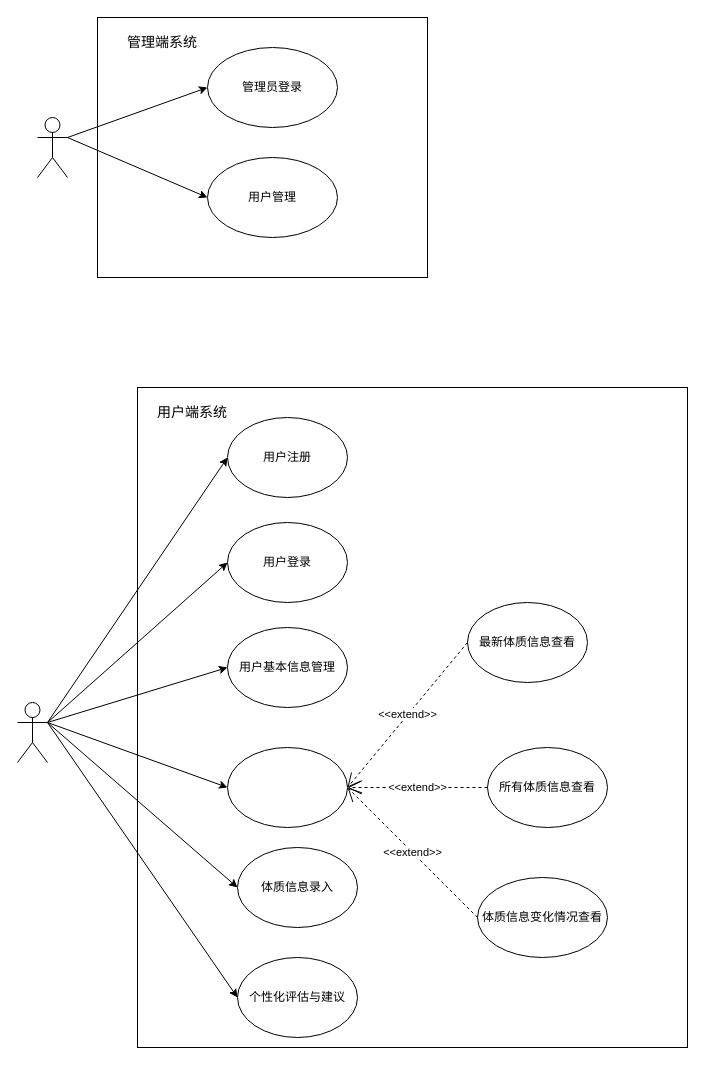
Some shapes in this 705 by 1065 pixel diagram are drawn without their labels. Each missing label, with the centre of its shape:
"体质信息查看" goes at (287,787).
"用户" goes at (32,732).
"管理员" goes at (52,147).
